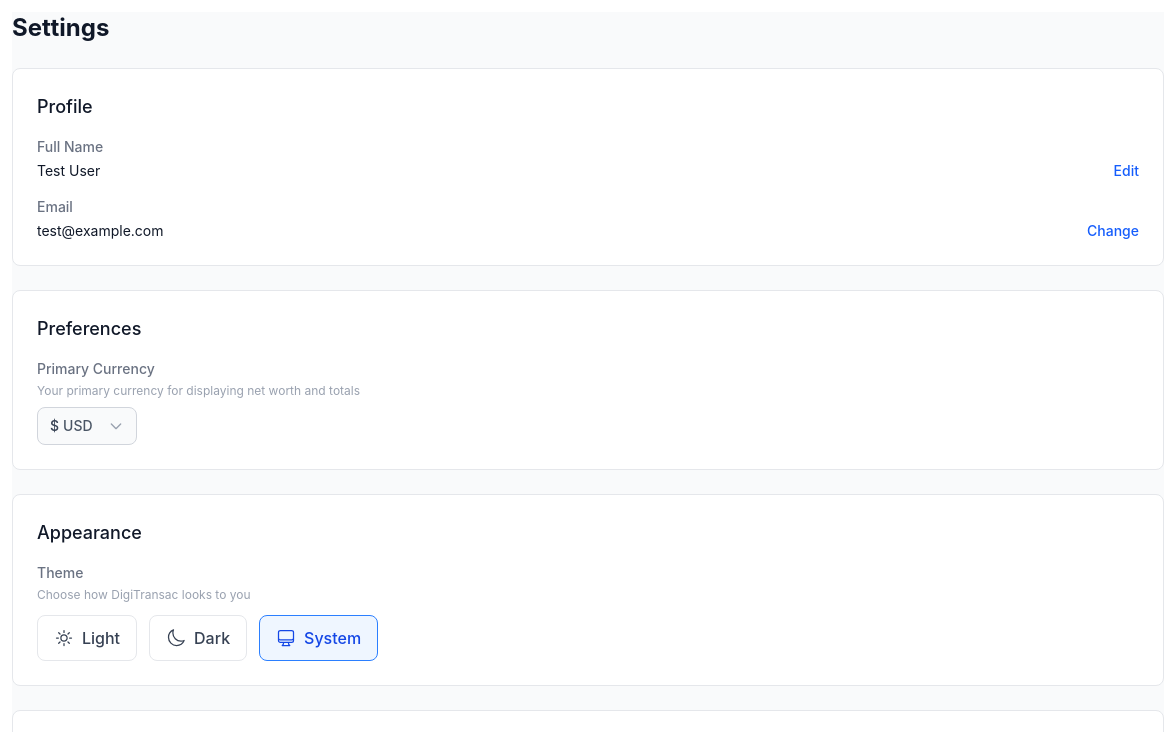
Test: SettingsPage › Name Update › should show edit form when Edit button is clicked for name
Expected: the text "Test User" is shown, [37,161,100,181]
Click the button "Edit".
click(1126, 171)  # box [1114,161,1139,181]
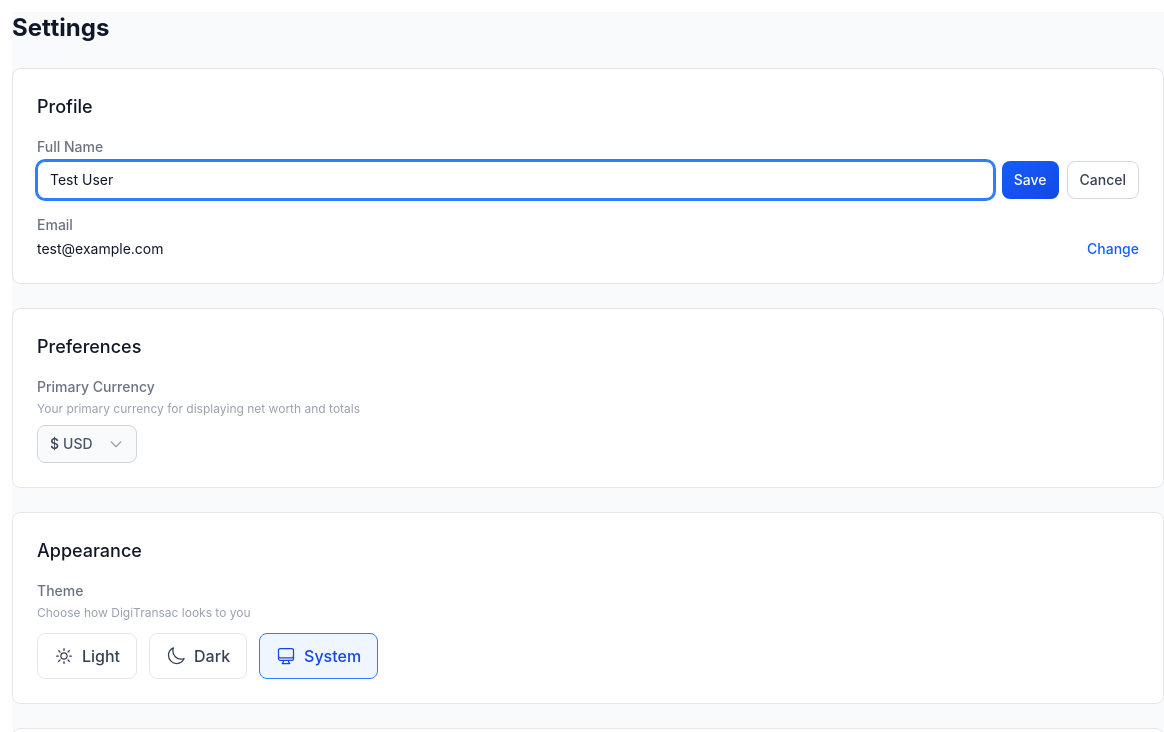
Now the field with placeholder "Your full name" is shown, box [37,161,994,199]
Now the button "Save" is shown, box [1002,161,1058,199]
Now the button "Cancel" is shown, box [1066,161,1139,199]
